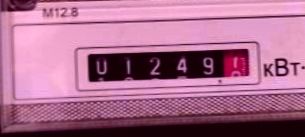0: (94, 53, 108, 73)
1: (121, 52, 133, 73)
2: (146, 52, 162, 74)
4: (175, 51, 188, 71)
7: (228, 46, 242, 67)
9: (201, 52, 214, 74)
screen: (71, 34, 264, 91)
